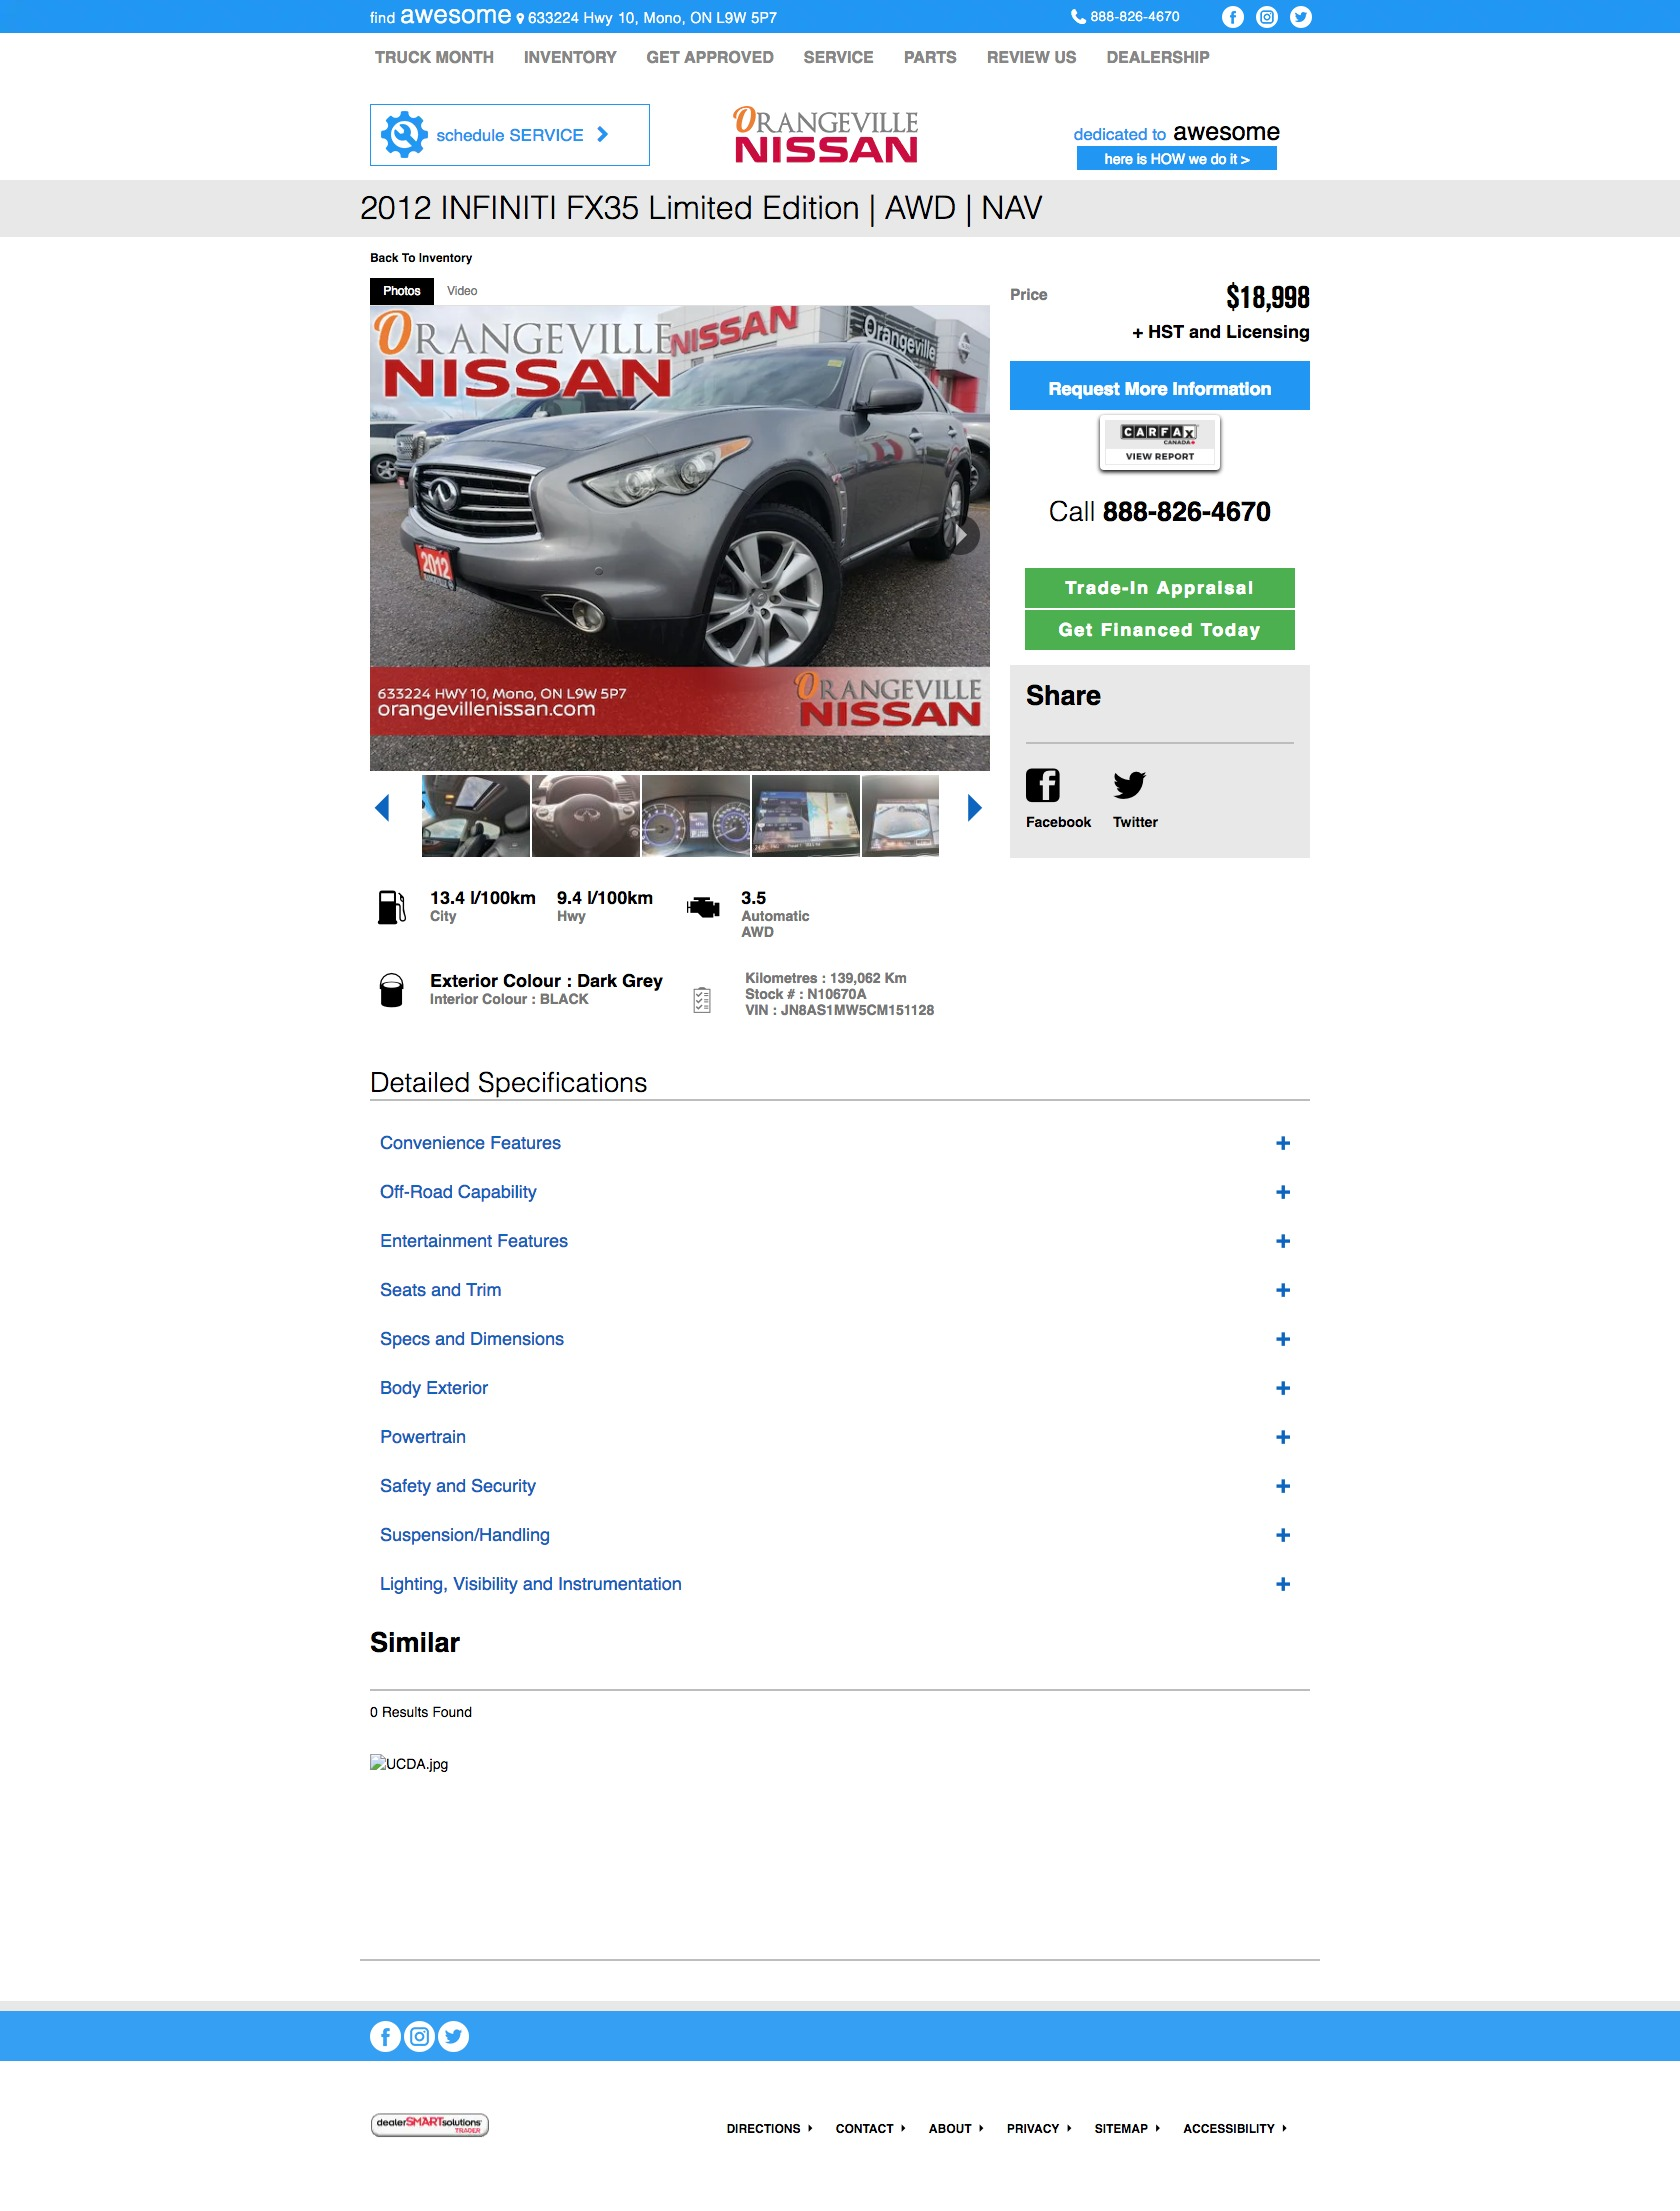car: (969, 794, 983, 822)
